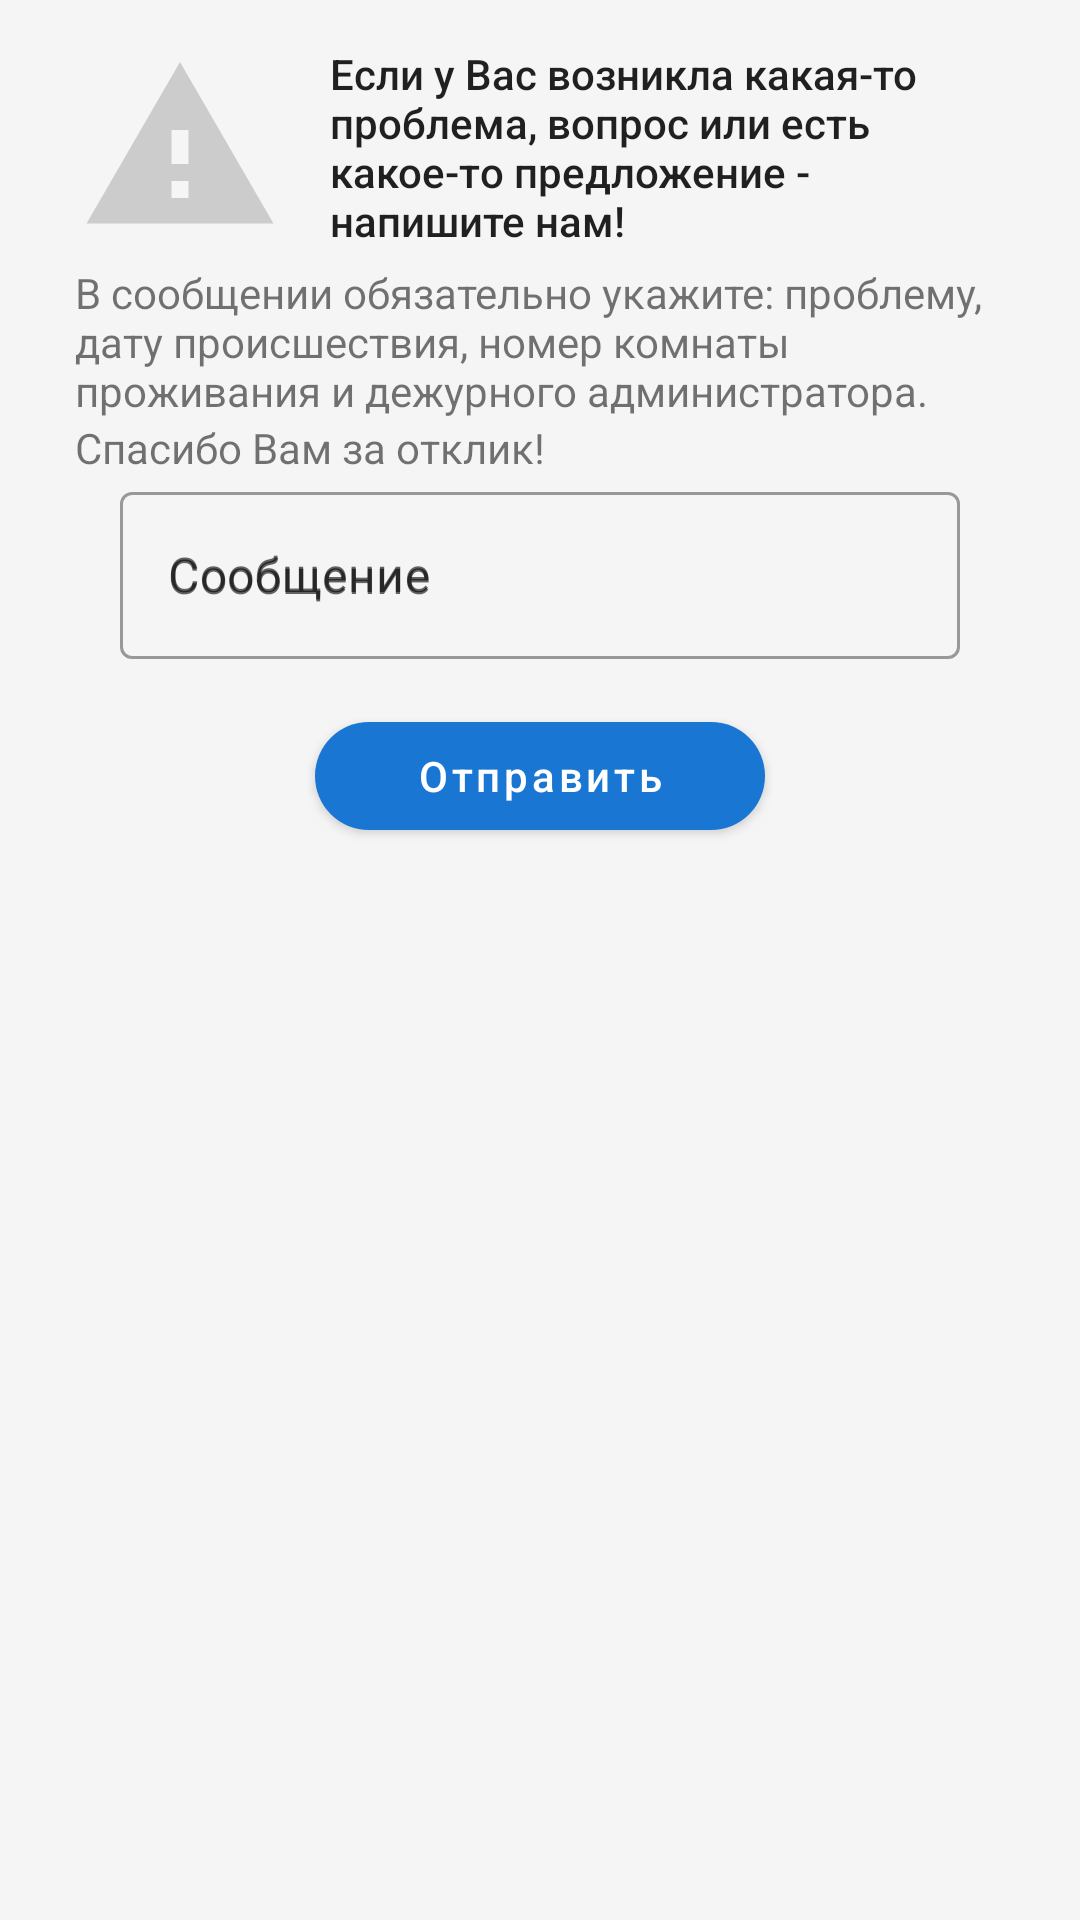

Icon click points for this 1080 × 1920 phone screenshot, format point (x, y):
Жалоба: point (180, 143)
